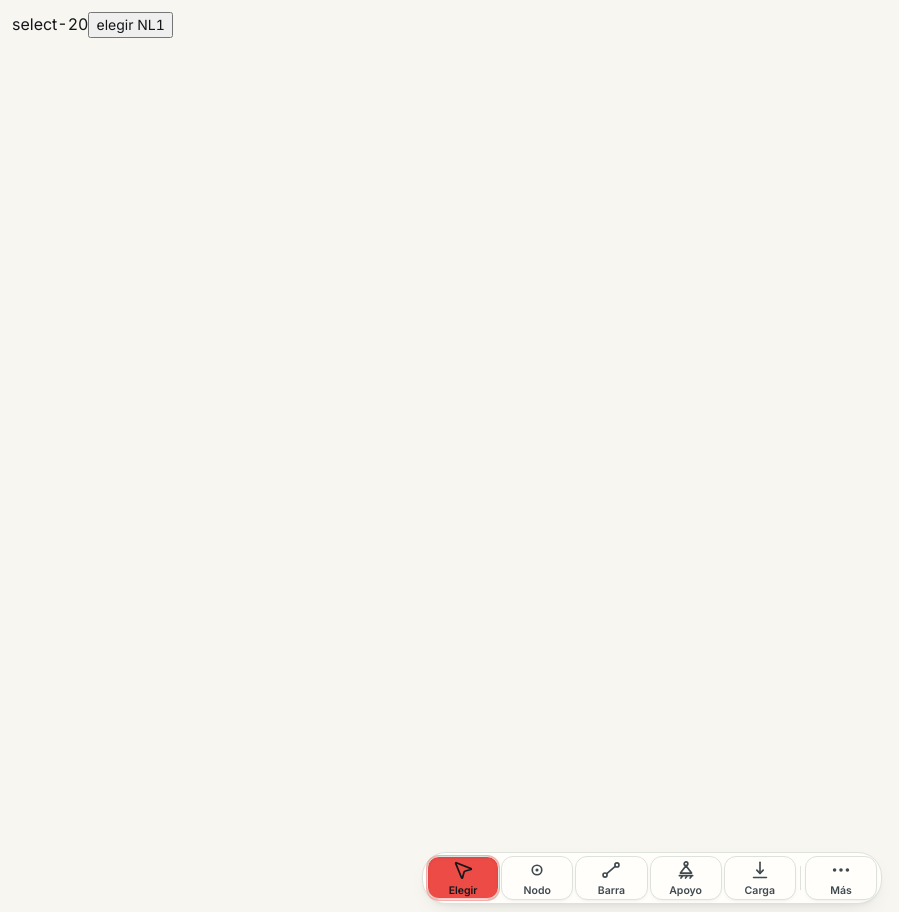
dock dinámico › Carga recuerda el último tipo elegido en su cápsula
This screenshot has width=899, height=912.
Click the button "Carga": (760, 878) [724, 856, 796, 900]
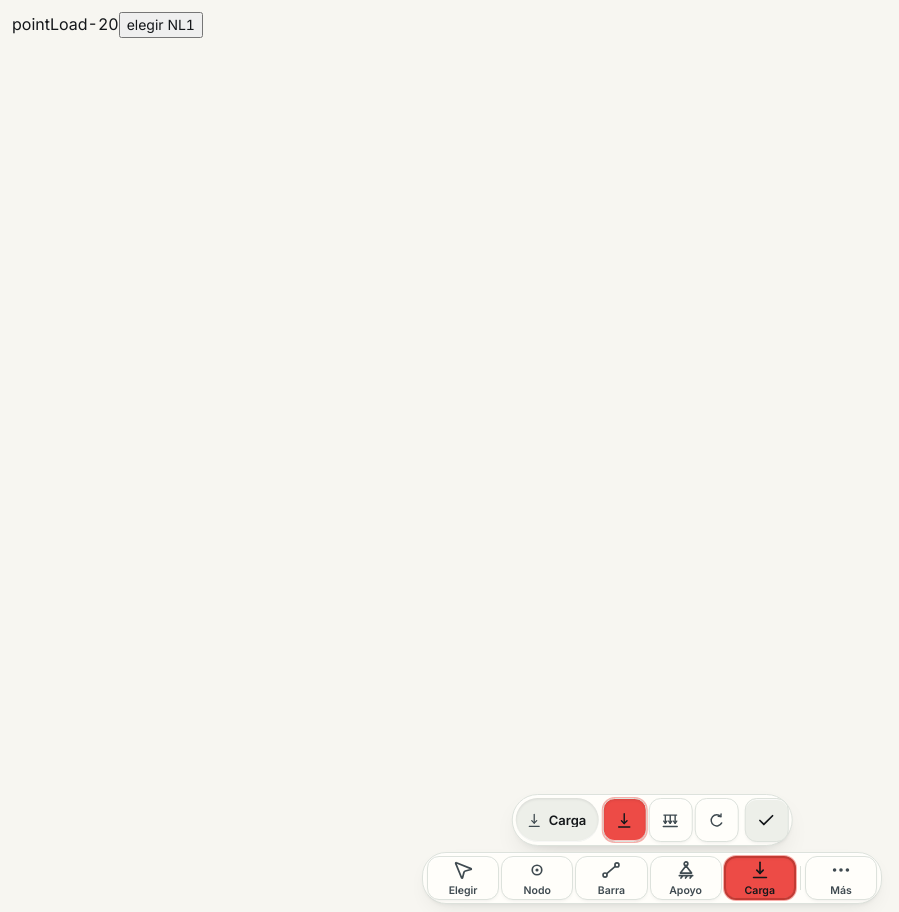
Click the button named "Carga distribuida": (670, 820) [648, 798, 692, 842]
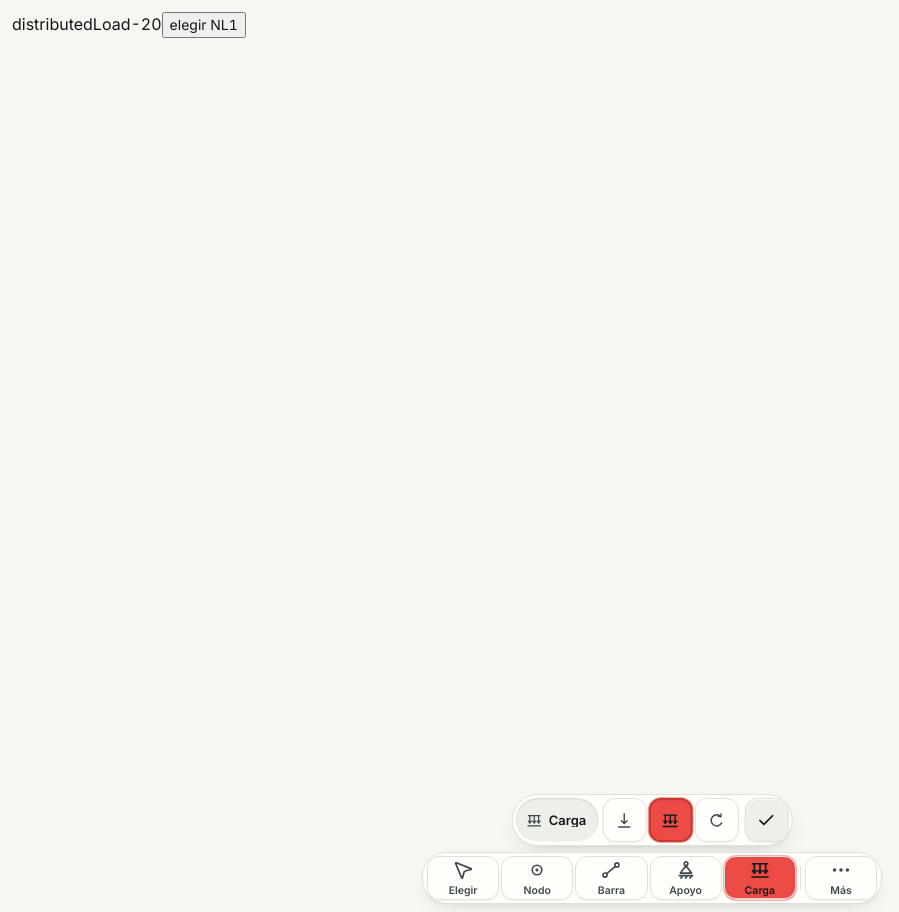
Click the button "Elegir": (463, 878) [427, 856, 499, 900]
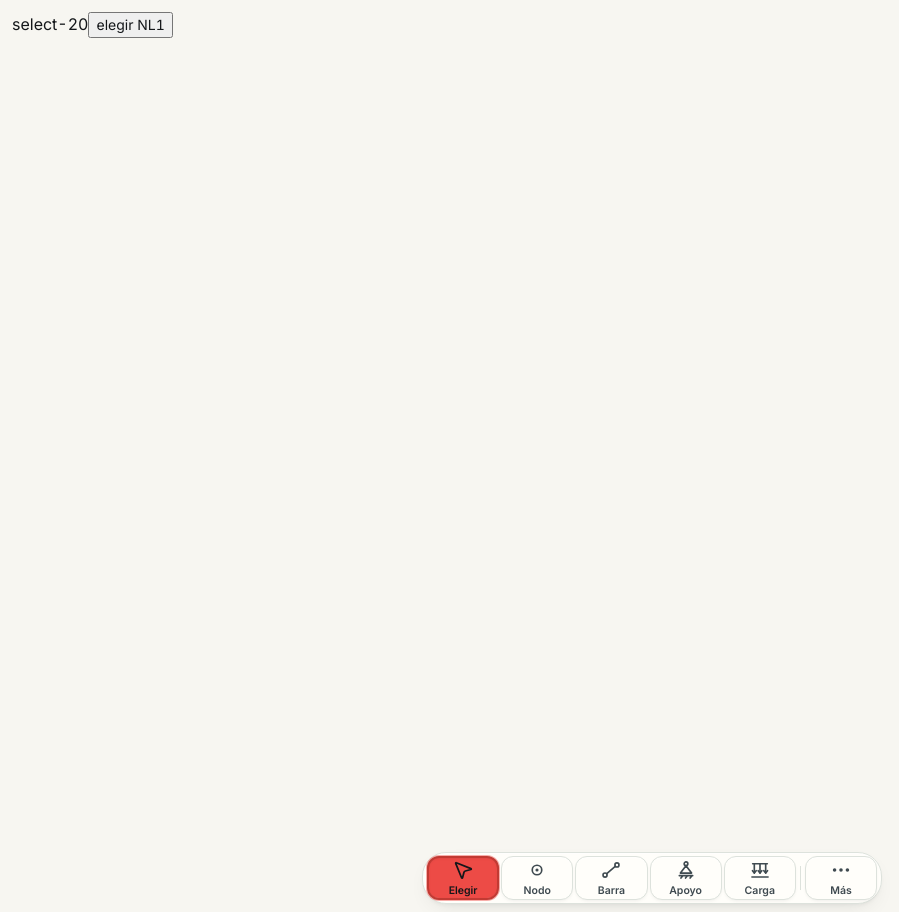
Click the button "Carga": (760, 878) [724, 856, 796, 900]
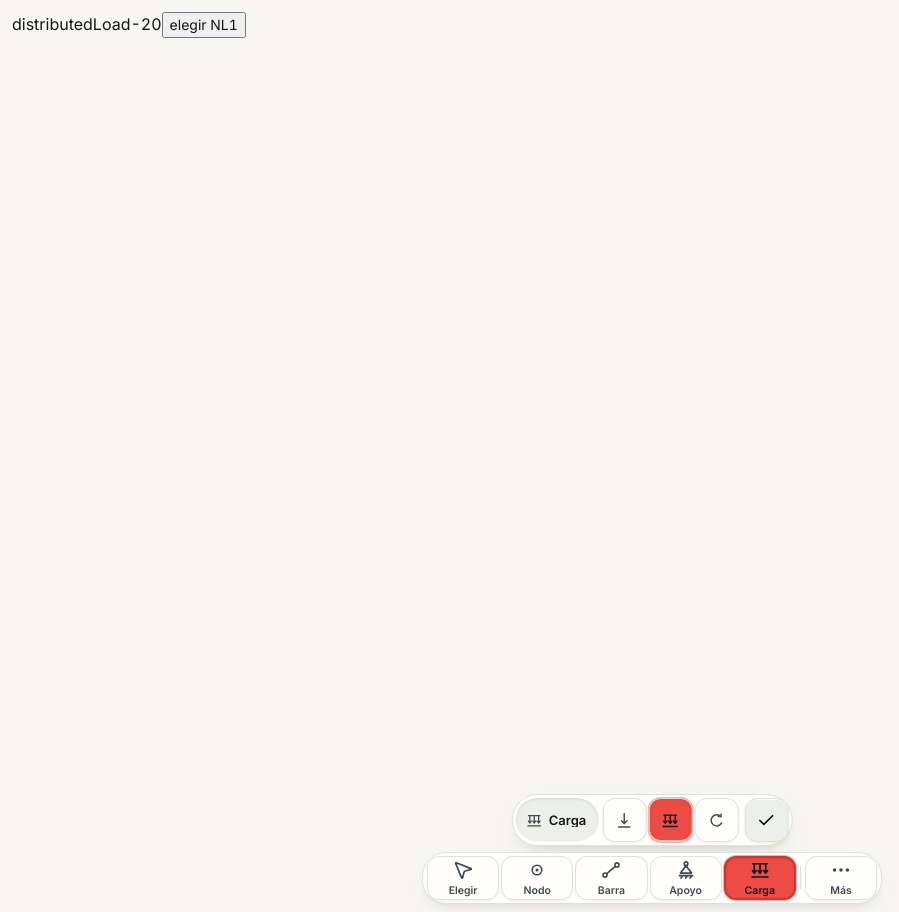
Now the text named "herramienta activa" reads "distributedLoad", box [12, 14, 130, 34]
